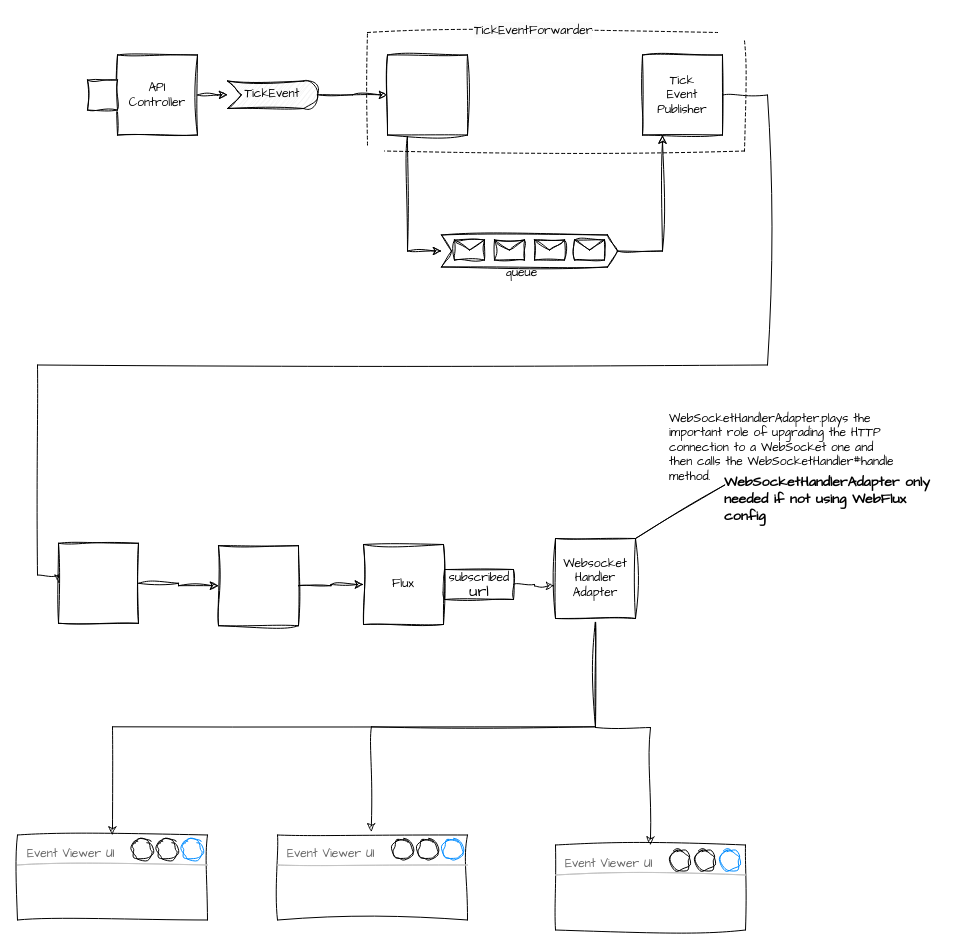
Image size: 960x947. Some labels were removed from this diagram. The shapes that lost their labels are listed below. From the top down, each one's box as (x1, y1, x2, y2) in pixels, then its label:
(86, 79, 118, 110): PUT
(386, 54, 468, 135): Tick Event Listener
(58, 542, 138, 623): Websocket Handler
(218, 545, 298, 626): Handler Mapping
